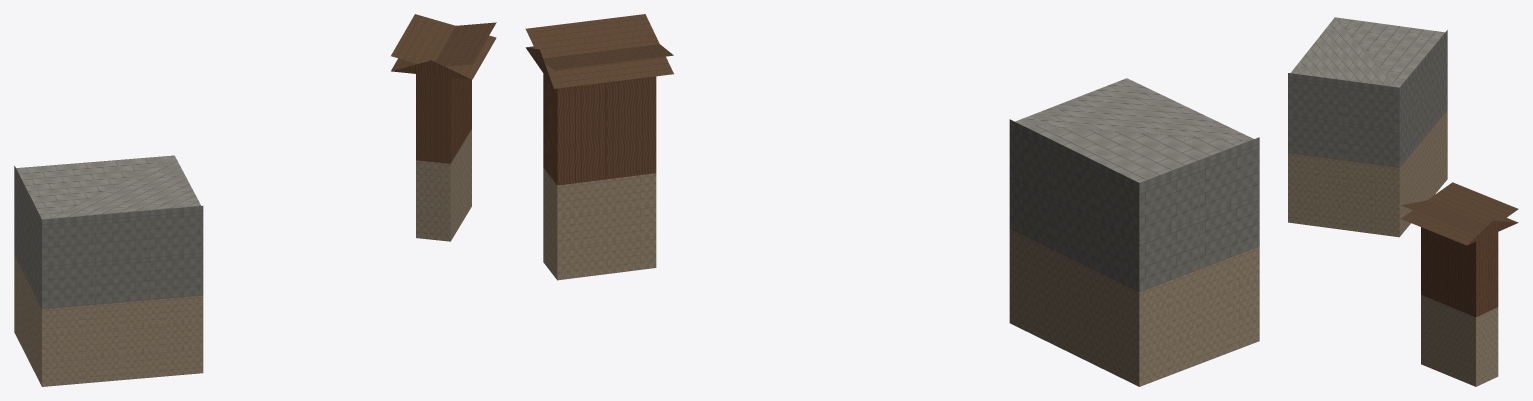
File: bld_c9_9_494.gltf
3 views of the same model, side by side, from view 1: azimuth 30°, elevation 25°; view 2: azimuth 150°, elevation 25°; view 3: azimuth 270°, elevation 25° (orthographic). The views are drawn at different scales.
Parts seen in each view (by area): view 1: bld_c9_9_494; view 2: bld_c9_9_494; view 3: bld_c9_9_494.
Part boxes in pixels (x1,y1,x2,y2): bld_c9_9_494: (14, 14, 496, 386); bld_c9_9_494: (525, 14, 1259, 386); bld_c9_9_494: (1288, 17, 1518, 386).
Size of the model in its own units: 36.27 by 12 by 15.35.
Materials: 7 (7 with a texture image).
